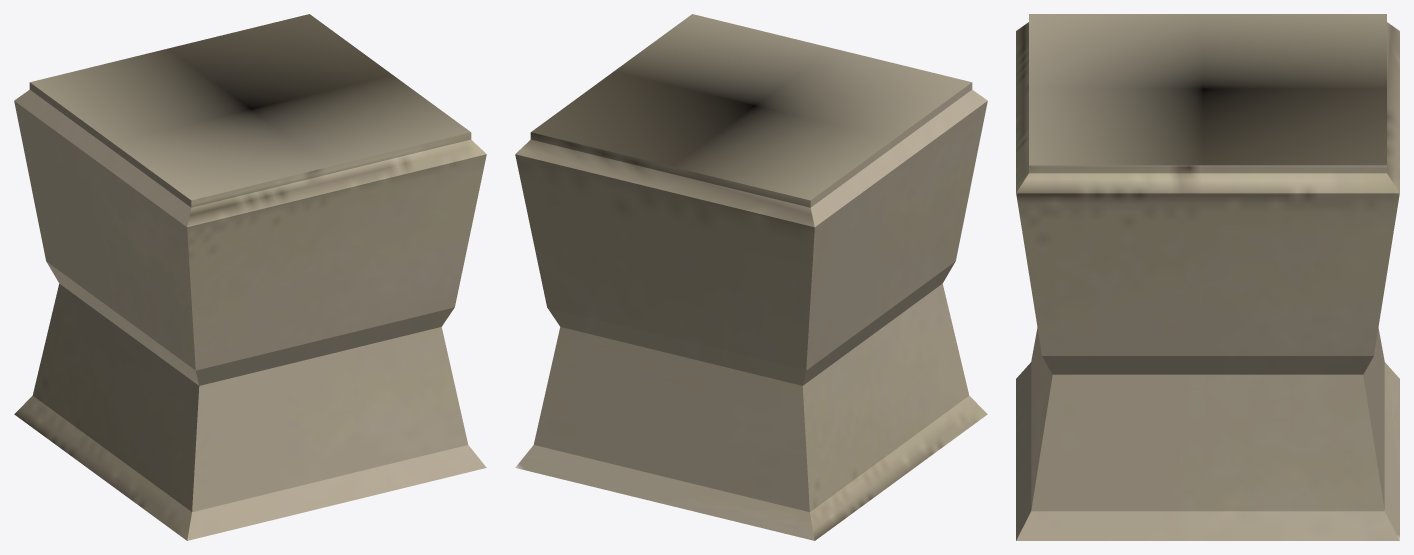
Rendered from stool.fbx.
3 views of the same model, side by side, from view 1: azimuth 30°, elevation 25°; view 2: azimuth 150°, elevation 25°; view 3: azimuth 270°, elevation 25° (orthographic). The views are drawn at different scales.
Parts seen in each view (by area): view 1: Cube.104; view 2: Cube.104; view 3: Cube.104.
Part boxes in pixels (box(x1,y1,x2,y2)): Cube.104: box(14, 14, 486, 540); Cube.104: box(515, 14, 987, 540); Cube.104: box(1016, 14, 1399, 540).
Bounding box in the file's own units: 2 × 2.13 × 2.
